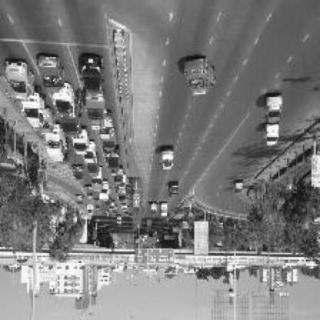other: (180, 58, 226, 98), (5, 56, 38, 101)
